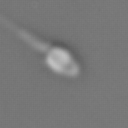normal: (1, 11, 48, 52)
